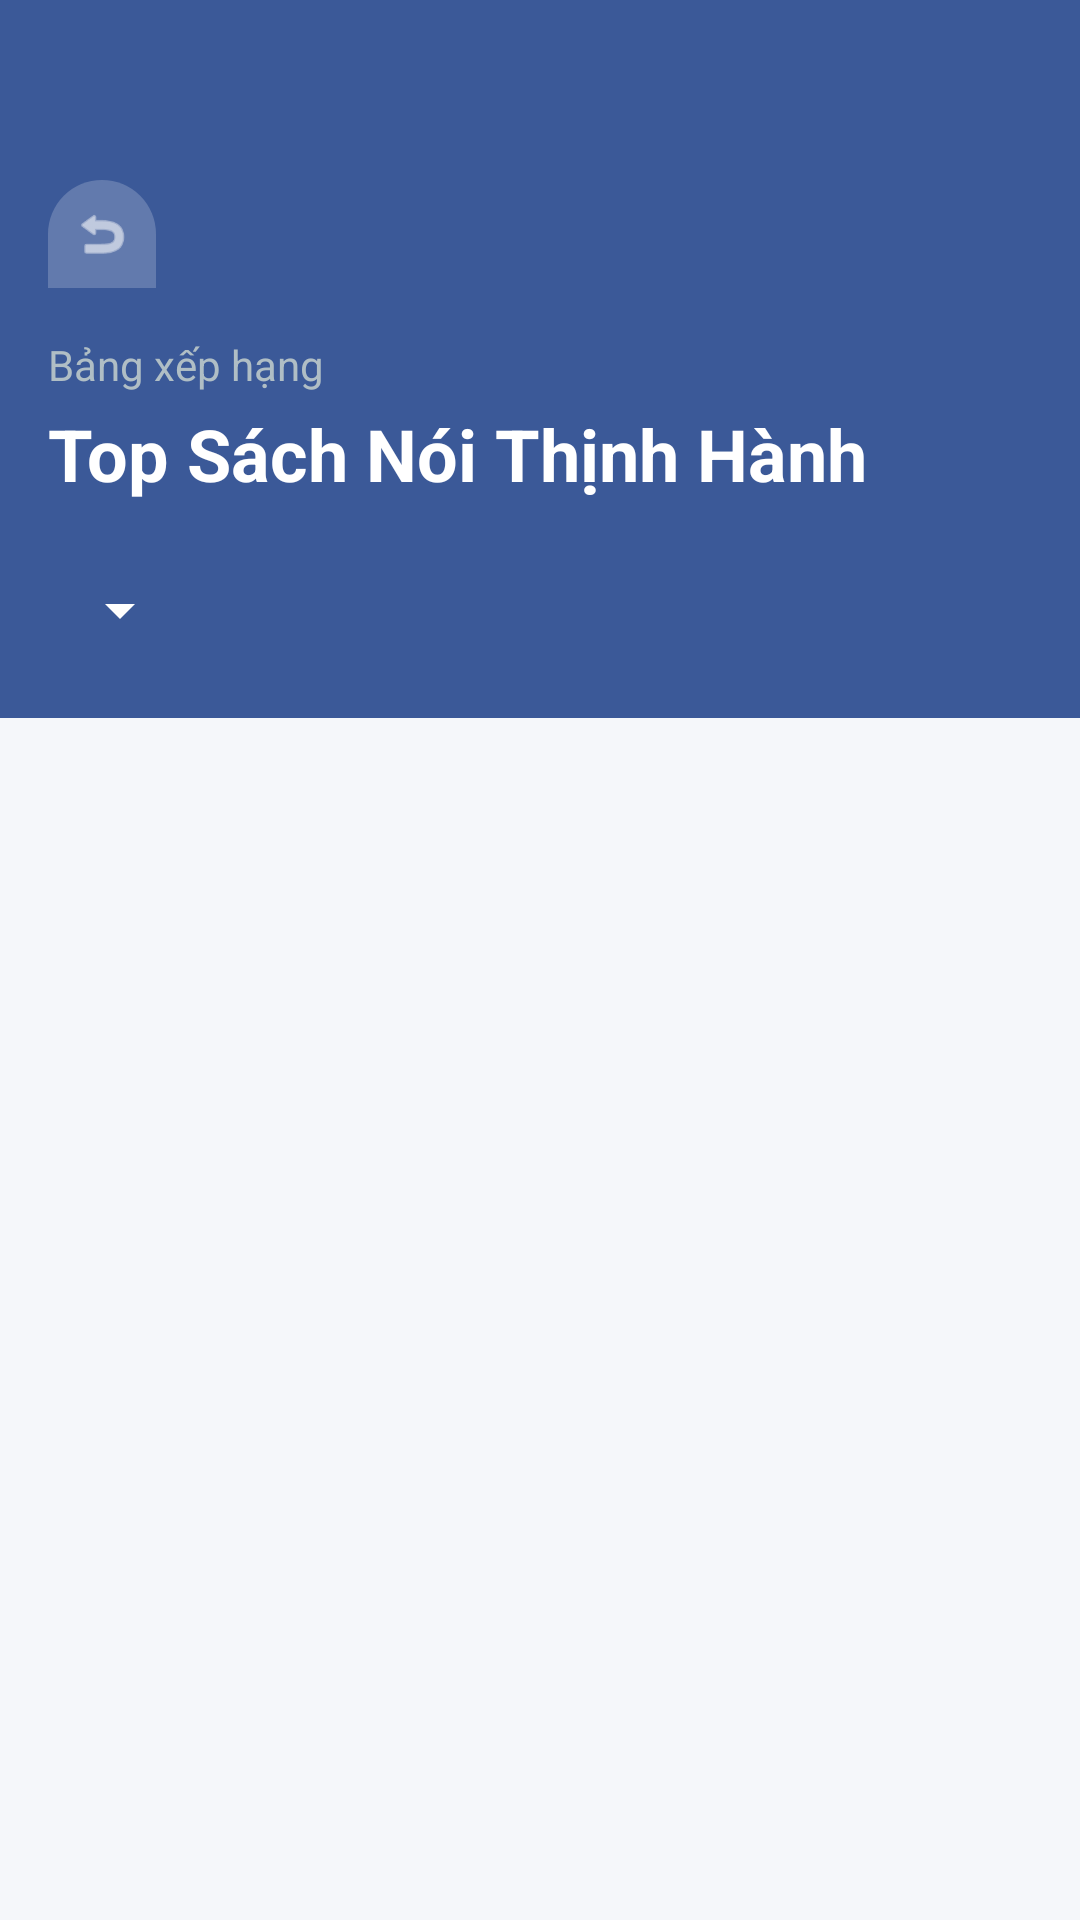

Named icons in this screenshot (1080×1920) and their centers, point (x, y):
revert: point (102, 234)
